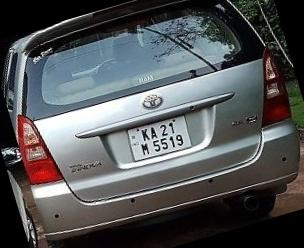plate: (118, 97, 203, 176)
